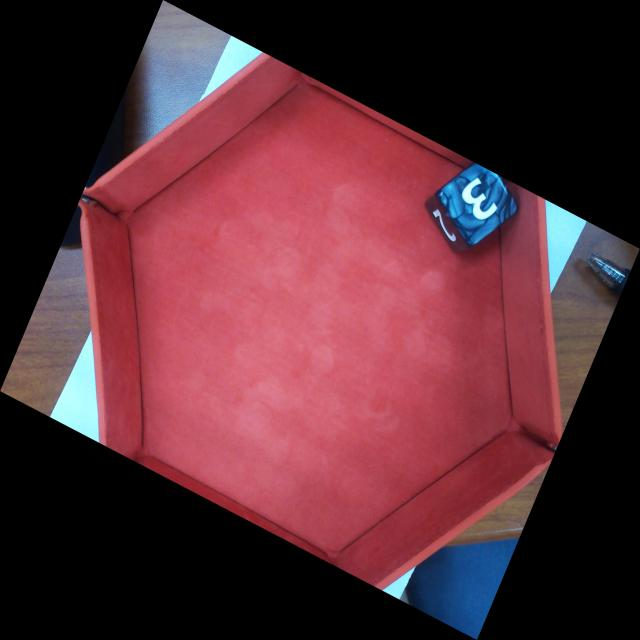dice: (438, 155, 523, 246)
